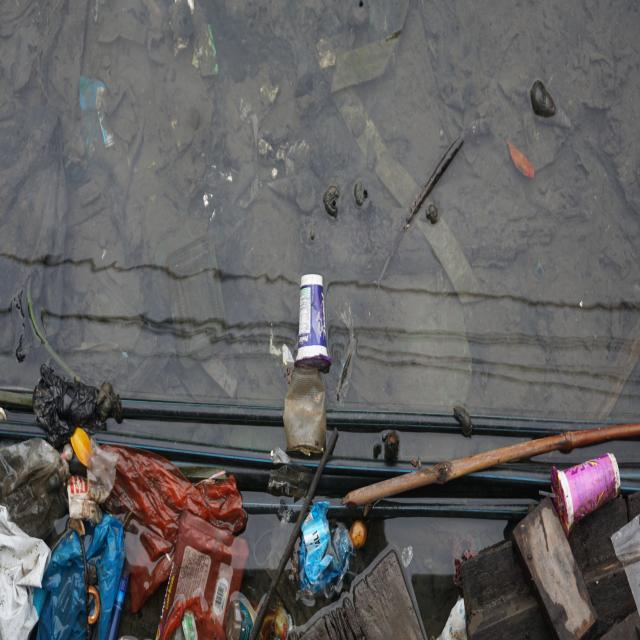Bungkus Makanan: (158, 527, 247, 640)
Bungkus Minuman: (546, 449, 624, 537), (294, 265, 331, 373)
Kantong Plastik: (105, 444, 254, 606), (34, 358, 126, 448)
